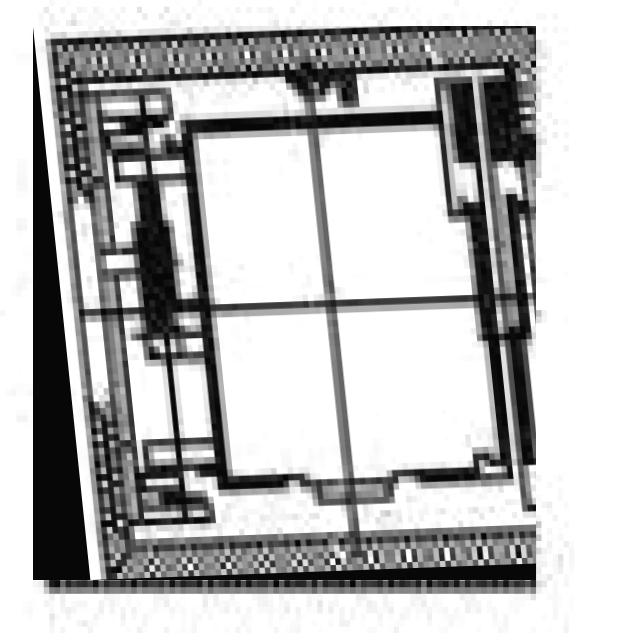lift: (33, 27, 536, 580)
